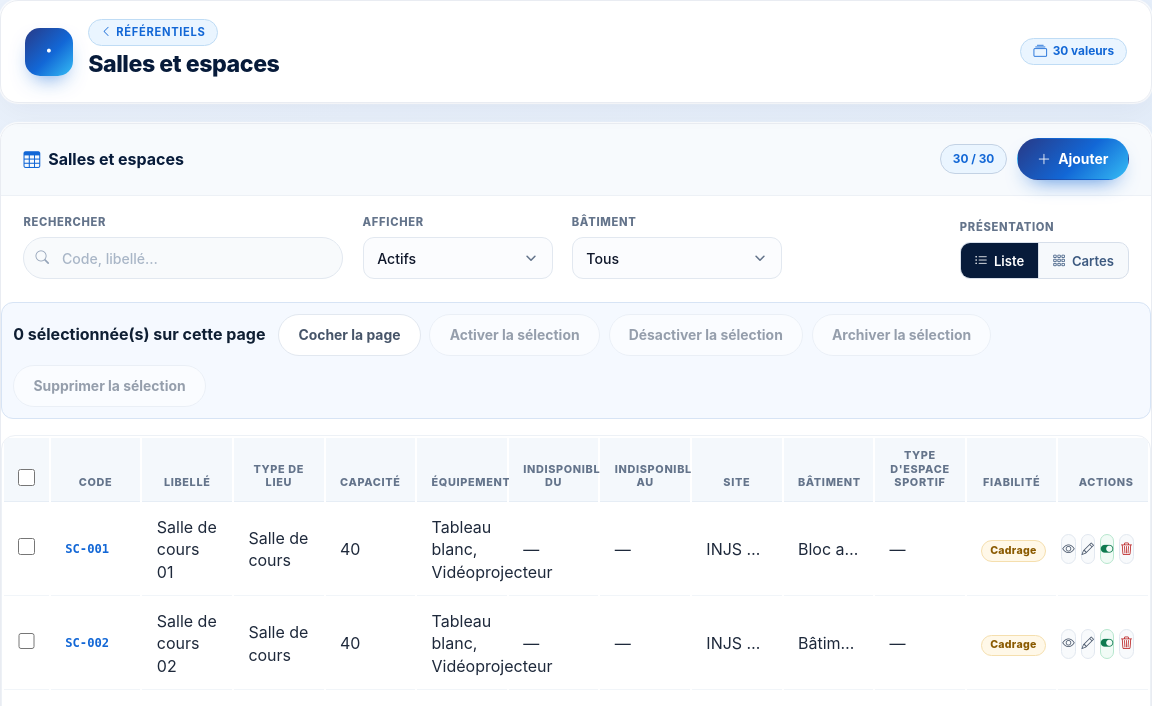
Test: écran générique — présentations liste / cartes et pagination › filtre par bâtiment via le sélecteur rapide
The width and height of the screenshot is (1152, 706).
Select "Bâtiment annexe" in the dropdown labelled "Bâtiment" at coordinates (677, 258), box [572,237,782,279]
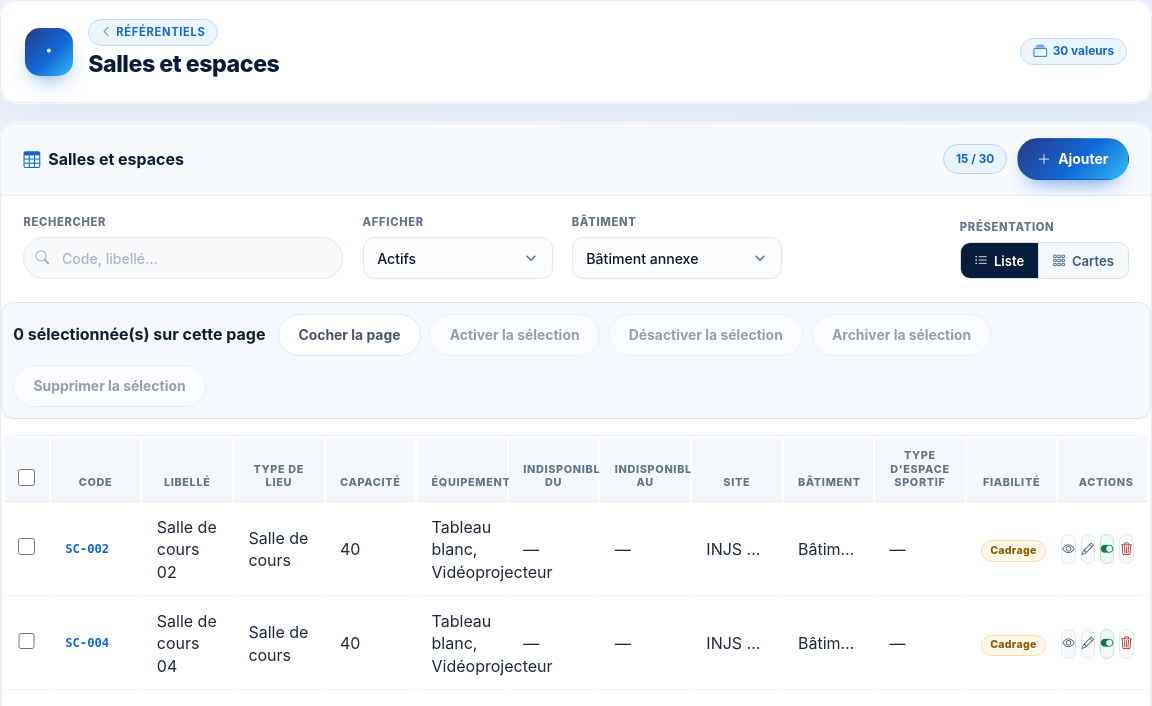
expect the text "Salle de cours 02" is shown: met, box [142,504,232,596]
expect the text "15 / 30" is shown: met, box [943,144,1007,174]
expect the text "Salle de cours 01" is gone: met
